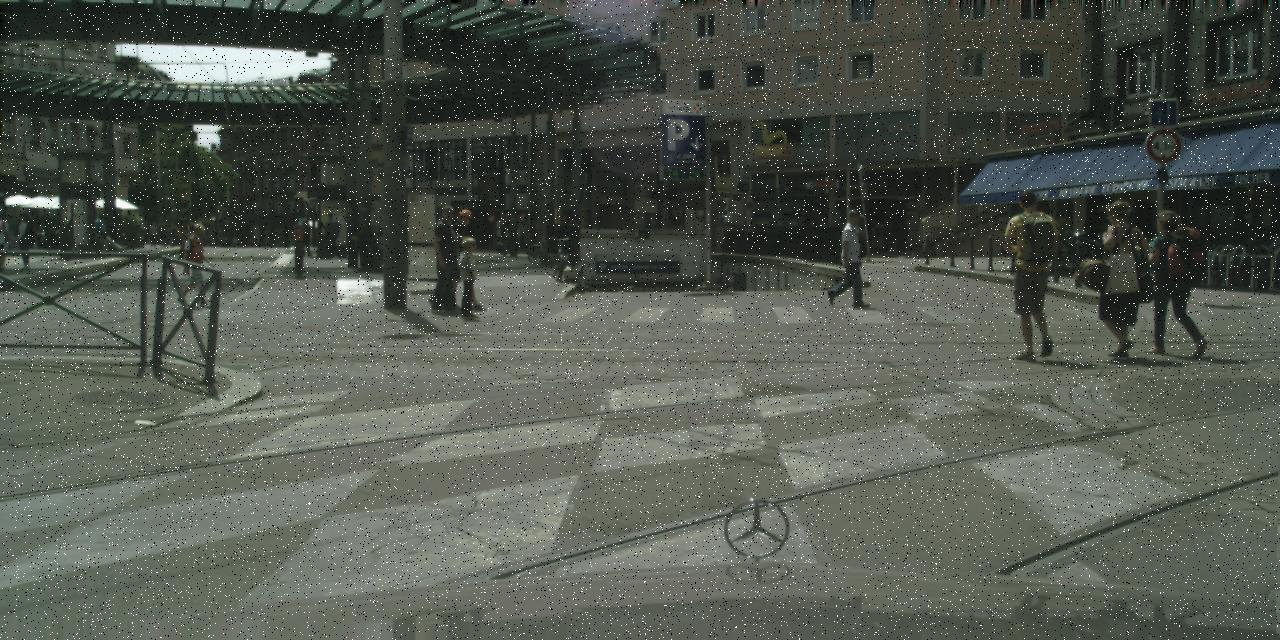ped: (997, 189, 1067, 359), (1088, 200, 1152, 358), (1141, 209, 1200, 355), (422, 204, 467, 314), (441, 210, 482, 310), (830, 210, 869, 308), (179, 223, 213, 307), (453, 237, 486, 318), (13, 212, 36, 269), (298, 212, 316, 256), (324, 212, 341, 258), (98, 213, 114, 256), (886, 214, 901, 252), (894, 218, 907, 250), (185, 221, 197, 252), (155, 220, 166, 248), (148, 221, 158, 247), (179, 222, 189, 247), (160, 222, 170, 246), (166, 222, 176, 246), (175, 227, 182, 246), (232, 236, 236, 246), (250, 239, 252, 246)
